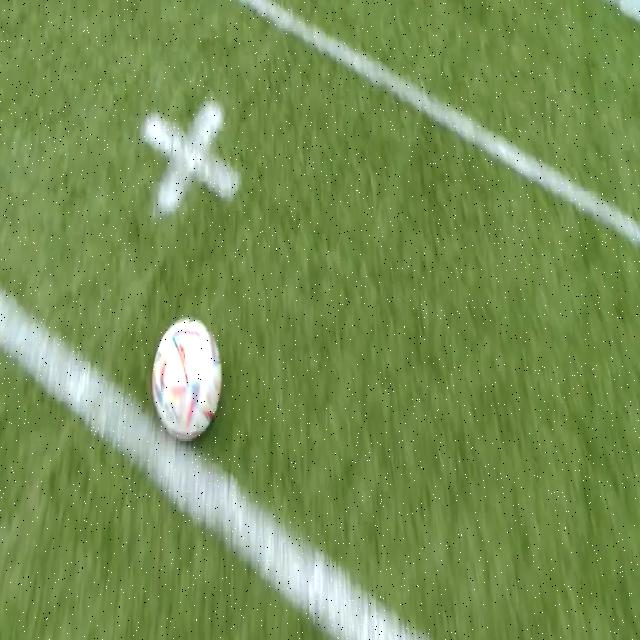ball: (153, 321, 220, 438)
